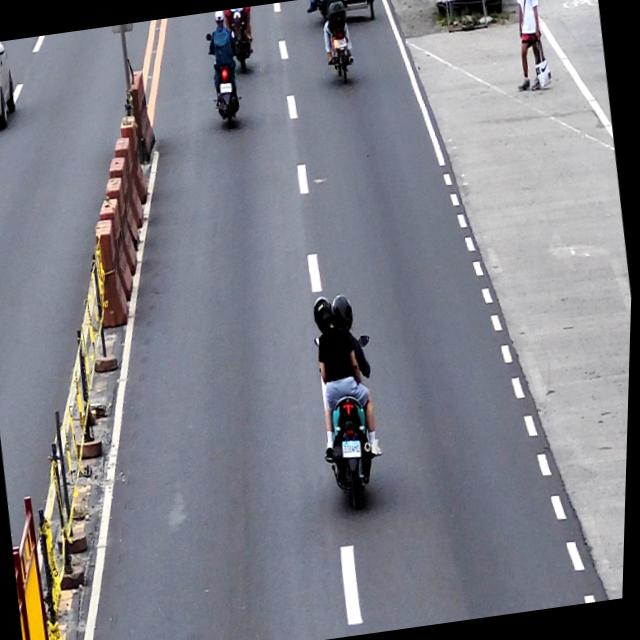License-Plate: (344, 437, 367, 462), (219, 82, 234, 96)
Motorcycle: (308, 293, 394, 510), (204, 11, 245, 129), (315, 0, 361, 91)
